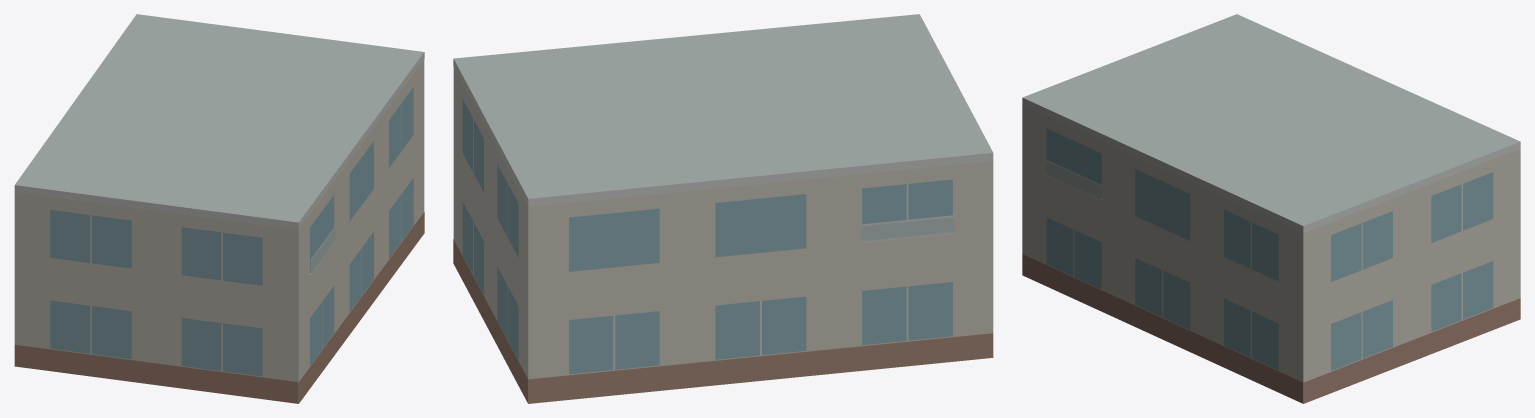
The model's file is survey-upis-33042974.glb.
3 views of the same model, side by side, from view 1: azimuth 30°, elevation 25°; view 2: azimuth 150°, elevation 25°; view 3: azimuth 270°, elevation 25° (orthographic). The views are drawn at different scales.
Visible parts, largest first — view 1: survey-upis-33042974.tmp; view 2: survey-upis-33042974.tmp; view 3: survey-upis-33042974.tmp.
Part boxes in pixels (x1,y1,x2,y2): survey-upis-33042974.tmp: (14, 14, 424, 403); survey-upis-33042974.tmp: (453, 14, 993, 403); survey-upis-33042974.tmp: (1022, 14, 1520, 403).
Size of the model in its own units: 15.63 by 6.1 by 15.51.
